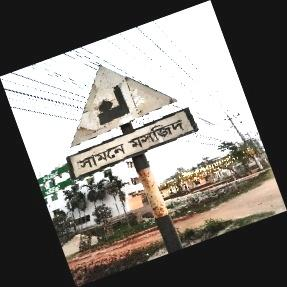Mosque in front: (65, 66, 195, 182)
